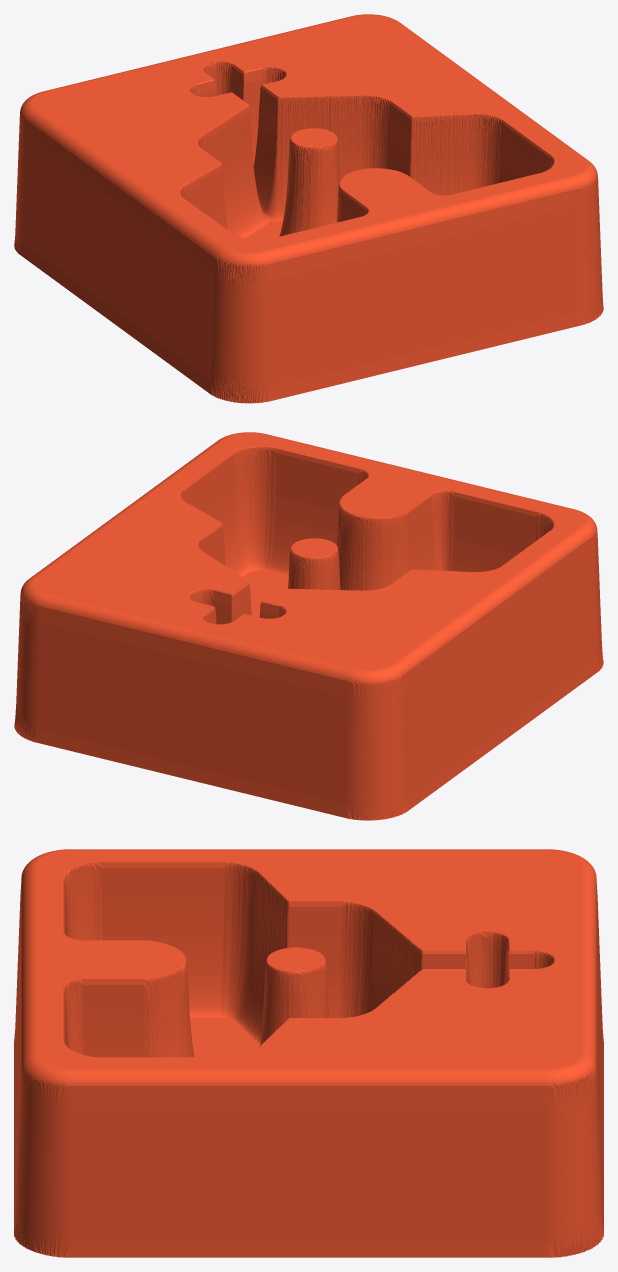
Rendered from mold.glb.
The picture shows the model from 3 angles, top to bottom: view 1: azimuth 30°, elevation 25°; view 2: azimuth 150°, elevation 25°; view 3: azimuth 270°, elevation 25°; orthographic projection. The views are drawn at different scales.
Visible parts, largest first — view 1: geometry_0; view 2: geometry_0; view 3: geometry_0.
Part boxes in pixels (<box>): geometry_0: <box>14,14,603,403</box>; geometry_0: <box>14,432,603,820</box>; geometry_0: <box>14,849,603,1257</box>.
Bounding box in the file's own units: 0.088 × 0.031 × 0.0924.
